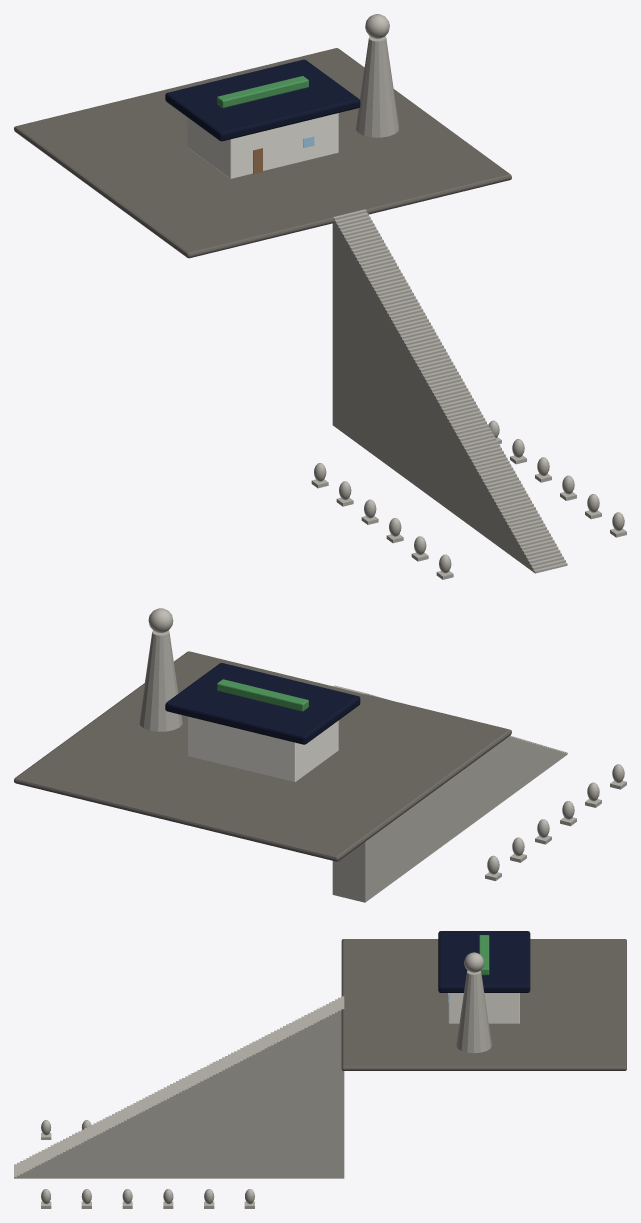
File: YonggungsaTemple_blockout.glb
3 renders of one model, top to bottom at view 1: azimuth 30°, elevation 25°; view 2: azimuth 150°, elevation 25°; view 3: azimuth 270°, elevation 25°, orthographic. The views are drawn at different scales.
Parts seen in each view (by area): view 1: ENV11_YonggungsaTemple_TemplePlatform_L0, ENV11_YonggungsaTemple_HallEaves_L0, ENV11_YonggungsaTemple_HallWall_L0, ENV11_YonggungsaTemple_BodhisattvaRobe_L0, ENV11_YonggungsaTemple_HallRidge_L0, ENV11_YonggungsaTemple_ApproachStep106_L0; view 2: ENV11_YonggungsaTemple_TemplePlatform_L0, ENV11_YonggungsaTemple_HallEaves_L0, ENV11_YonggungsaTemple_HallWall_L0, ENV11_YonggungsaTemple_BodhisattvaRobe_L0, ENV11_YonggungsaTemple_ApproachStep107_L0, ENV11_YonggungsaTemple_HallRidge_L0, ENV11_YonggungsaTemple_BodhisattvaHead_L0; view 3: ENV11_YonggungsaTemple_TemplePlatform_L0, ENV11_YonggungsaTemple_HallEaves_L0, ENV11_YonggungsaTemple_BodhisattvaRobe_L0, ENV11_YonggungsaTemple_HallWall_L0, ENV11_YonggungsaTemple_ApproachStep101_L0, ENV11_YonggungsaTemple_ApproachStep100_L0, ENV11_YonggungsaTemple_ApproachStep99_L0, ENV11_YonggungsaTemple_ApproachStep98_L0, ENV11_YonggungsaTemple_ApproachStep97_L0, ENV11_YonggungsaTemple_ApproachStep96_L0, ENV11_YonggungsaTemple_ApproachStep95_L0, ENV11_YonggungsaTemple_ApproachStep94_L0 (+40 smaller).
Part boxes in pixels (x1,y1,x2,y2): ENV11_YonggungsaTemple_TemplePlatform_L0: (14,48,511,258); ENV11_YonggungsaTemple_HallEaves_L0: (165,59,360,141); ENV11_YonggungsaTemple_HallWall_L0: (187,113,338,178); ENV11_YonggungsaTemple_BodhisattvaRobe_L0: (356,36,399,137); ENV11_YonggungsaTemple_HallRidge_L0: (217,76,308,108); ENV11_YonggungsaTemple_ApproachStep106_L0: (334,212,368,427); ENV11_YonggungsaTemple_TemplePlatform_L0: (14,651,511,861); ENV11_YonggungsaTemple_HallEaves_L0: (165,663,360,744); ENV11_YonggungsaTemple_HallWall_L0: (187,716,338,782); ENV11_YonggungsaTemple_BodhisattvaRobe_L0: (139,630,182,731); ENV11_YonggungsaTemple_ApproachStep107_L0: (332,685,366,902); ENV11_YonggungsaTemple_HallRidge_L0: (217,679,308,711); ENV11_YonggungsaTemple_BodhisattvaHead_L0: (148,608,173,632); ENV11_YonggungsaTemple_TemplePlatform_L0: (341,939,626,1070); ENV11_YonggungsaTemple_HallEaves_L0: (438,931,530,992); ENV11_YonggungsaTemple_BodhisattvaRobe_L0: (456,970,491,1053); ENV11_YonggungsaTemple_HallWall_L0: (448,993,519,1023); ENV11_YonggungsaTemple_ApproachStep101_L0: (322,1005,325,1178); ENV11_YonggungsaTemple_ApproachStep100_L0: (319,1007,322,1178); ENV11_YonggungsaTemple_ApproachStep99_L0: (316,1008,319,1178); ENV11_YonggungsaTemple_ApproachStep98_L0: (313,1010,316,1178); ENV11_YonggungsaTemple_ApproachStep97_L0: (310,1012,313,1178); ENV11_YonggungsaTemple_ApproachStep96_L0: (307,1013,310,1178); ENV11_YonggungsaTemple_ApproachStep95_L0: (304,1015,307,1178); ENV11_YonggungsaTemple_ApproachStep94_L0: (301,1016,304,1178).
Size of the model in its own units: 30 by 28.36 by 60.15.
